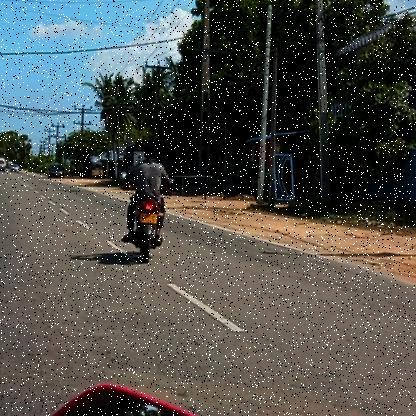motorcycle: (118, 195, 172, 268)
